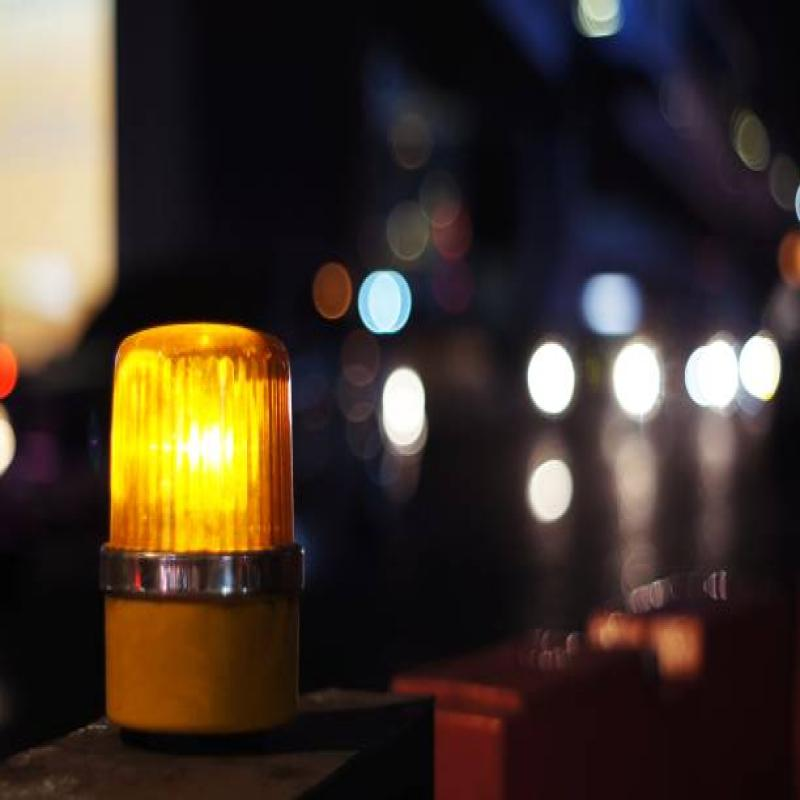AmbulanceSiren: (67, 326, 345, 760)
